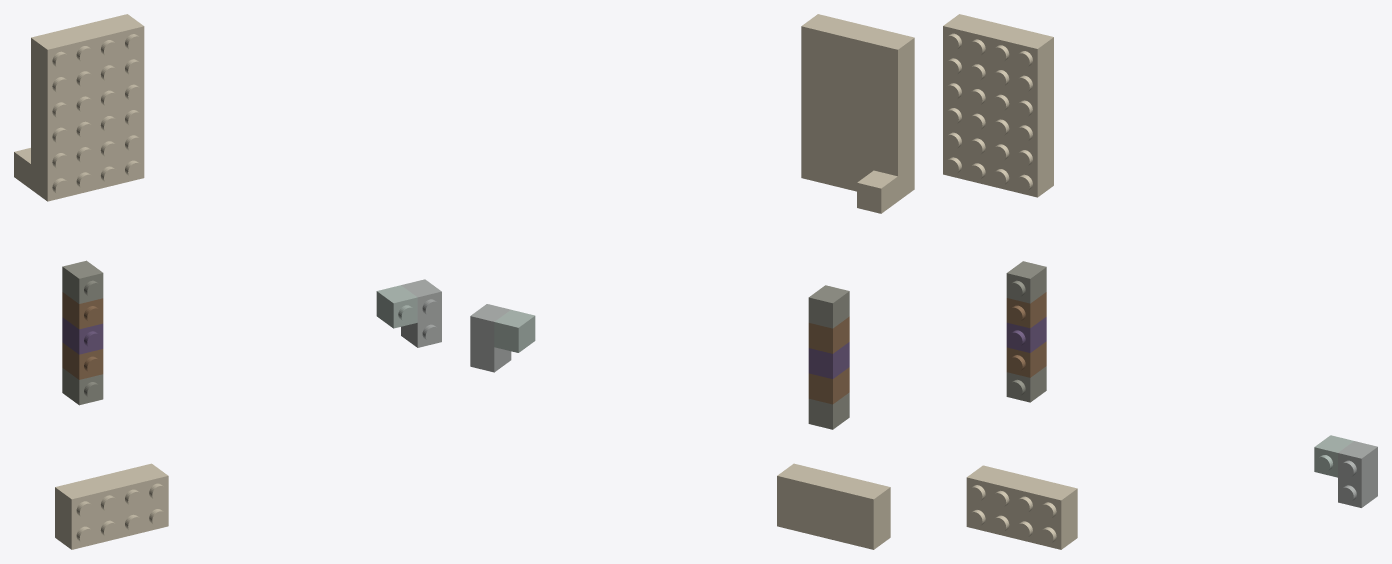
The model's file is full.glb.
3 views of the same model, side by side, from view 1: azimuth 30°, elevation 25°; view 2: azimuth 150°, elevation 25°; view 3: azimuth 330°, elevation 25° (orthographic). The views are drawn at different scales.
Visible parts, largest first — view 1: world; view 2: world; view 3: world.
Boxes of the visible parts, x1,y1,x2,y2 form: world: [14, 14, 441, 549]; world: [470, 14, 914, 549]; world: [943, 14, 1377, 549].
Bounding box in the file's own units: 136 × 160 × 21.
